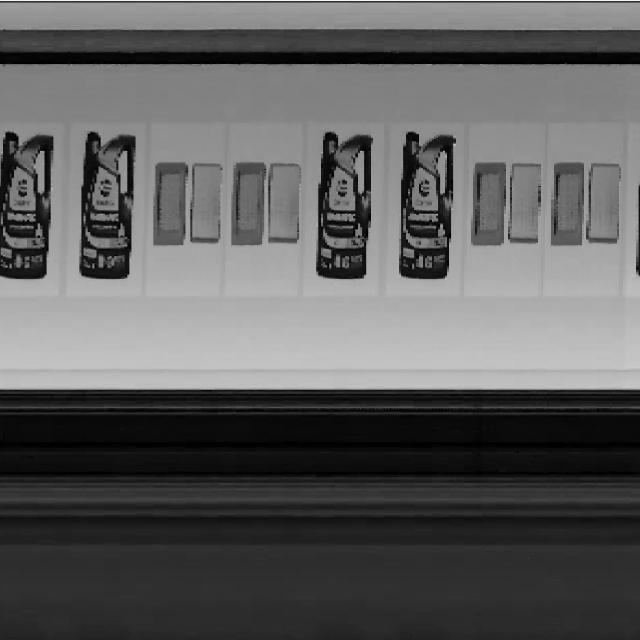air_filter: (265, 158, 307, 251), (468, 156, 508, 253), (584, 158, 624, 251), (506, 158, 544, 245), (229, 156, 264, 249), (188, 157, 224, 247), (153, 158, 187, 247), (549, 163, 582, 248)
motor_oil: (396, 128, 460, 283), (76, 128, 138, 280), (0, 126, 59, 281), (317, 128, 375, 283)
